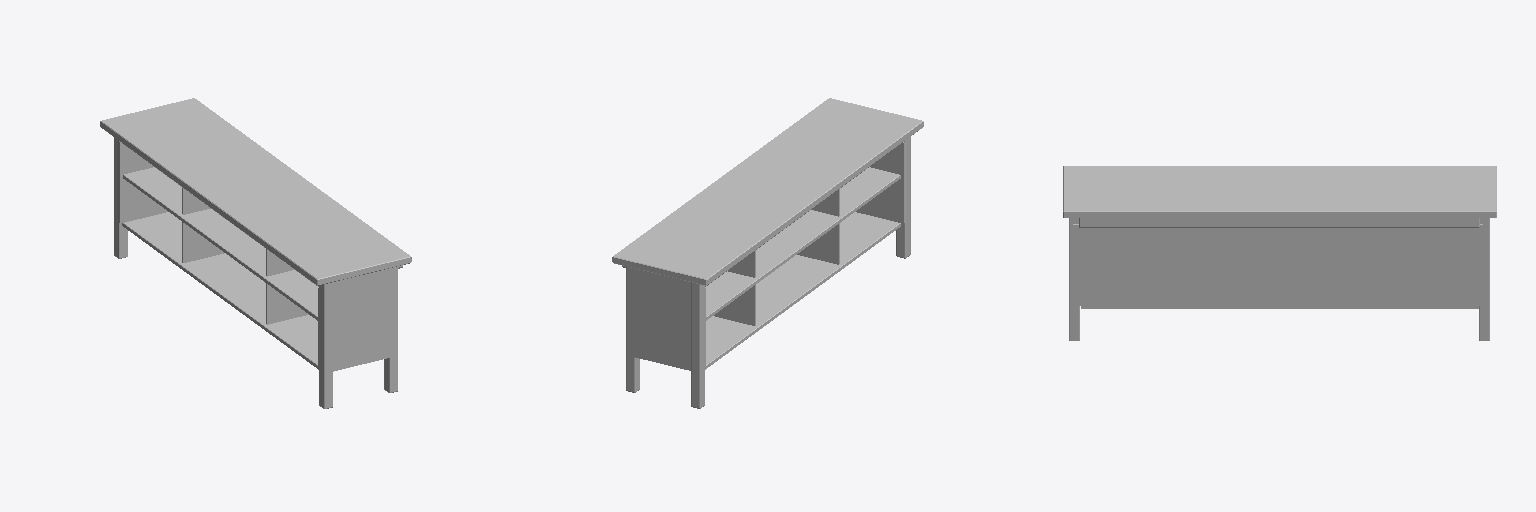
Rendered from 3D Tv Stand.obj.
3 renders of one model, left to right at view 1: azimuth 30°, elevation 25°; view 2: azimuth 150°, elevation 25°; view 3: azimuth 270°, elevation 25°, orthographic.
Parts seen in each view (by area): view 1: Box304, Box313, Box310, Box303, Box306, Box301, Box307, Box314, Box302, Box298; view 2: Box304, Box313, Box310, Box300, Box312, Box298, Box314, Box307, Box299, Box301; view 3: Box311, Box304, Box305, Box313, Box299, Box302.
Part boxes in pixels (bbox=[...]): Box304: bbox=[100, 98, 411, 285]; Box313: bbox=[122, 212, 318, 369]; Box310: bbox=[123, 167, 317, 320]; Box303: bbox=[333, 268, 389, 371]; Box306: bbox=[119, 142, 167, 223]; Box301: bbox=[319, 282, 332, 408]; Box307: bbox=[182, 188, 223, 262]; Box314: bbox=[266, 249, 308, 324]; Box302: bbox=[384, 266, 397, 392]; Box298: bbox=[114, 137, 127, 258]; Box304: bbox=[612, 98, 923, 285]; Box313: bbox=[705, 212, 900, 369]; Box310: bbox=[706, 167, 900, 320]; Box300: bbox=[634, 268, 690, 370]; Box312: bbox=[856, 142, 904, 223]; Box298: bbox=[691, 282, 704, 408]; Box314: bbox=[797, 189, 839, 264]; Box307: bbox=[714, 250, 755, 325]; Box299: bbox=[626, 266, 639, 392]; Box301: bbox=[896, 137, 910, 258]; Box311: bbox=[1073, 224, 1482, 305]; Box304: bbox=[1063, 166, 1496, 217]; Box305: bbox=[1079, 218, 1479, 227]; Box313: bbox=[1081, 306, 1478, 308]; Box299: bbox=[1479, 218, 1489, 340]; Box302: bbox=[1069, 218, 1079, 340].
Size of the model in its own units: 71.99 by 98.11 by 286.